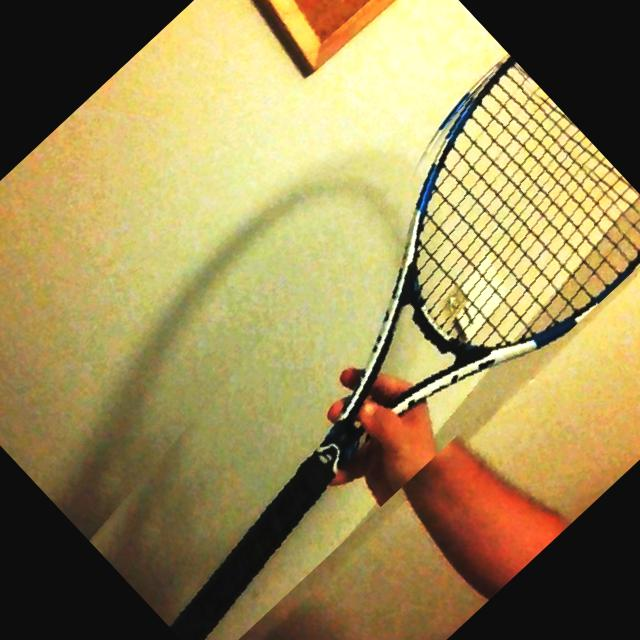TennisRacket: (40, 53, 640, 640)
